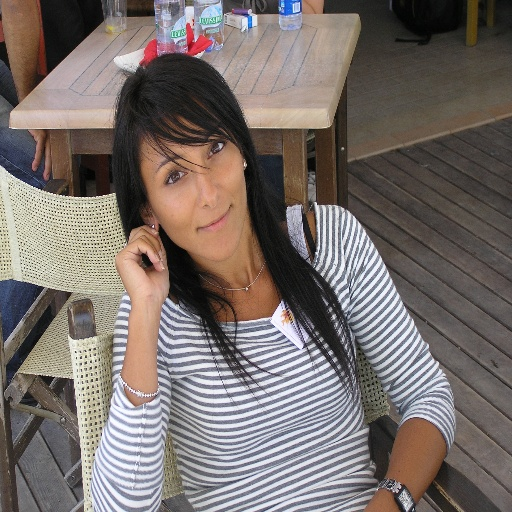hand: (112, 218, 171, 355), (29, 129, 53, 180)
